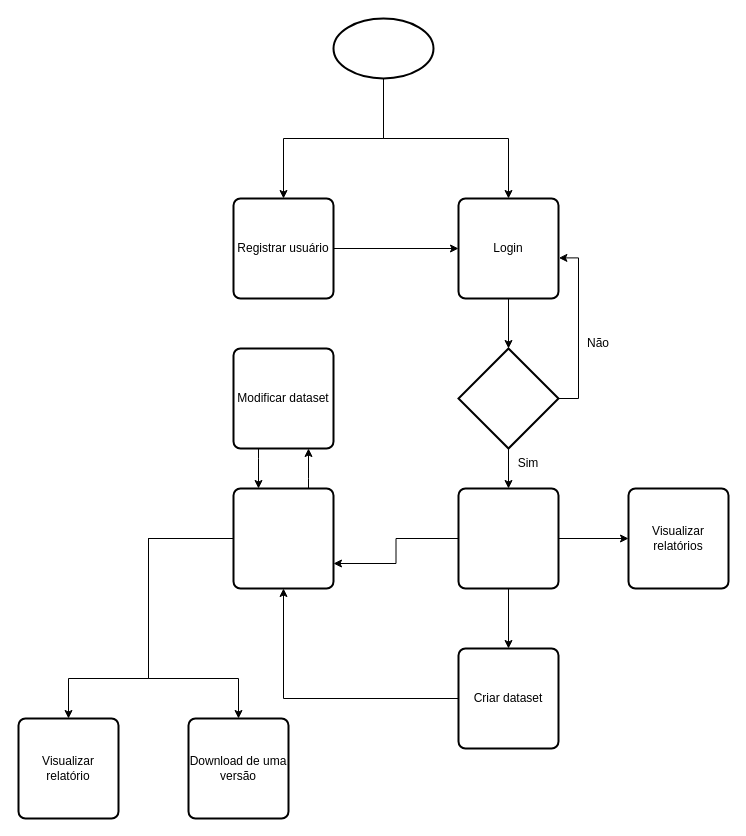
Some shapes in this 746 by 836 pixel diagram are drawn without their labels. Each missing label, with the box of its shape:
Início: (332, 17, 434, 79)
Lista das versões: (232, 487, 334, 589)
Lista de datasets: (457, 487, 559, 589)
Login correto: (457, 347, 559, 449)
